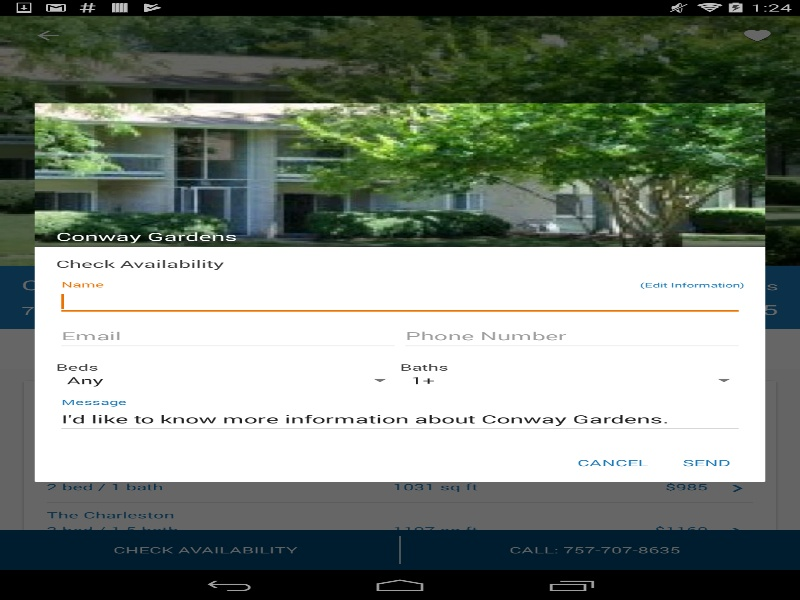Button: (561, 445, 664, 479), (664, 445, 749, 479)
Input: (56, 287, 744, 315), (56, 405, 744, 433), (56, 322, 400, 351), (400, 322, 744, 351)
